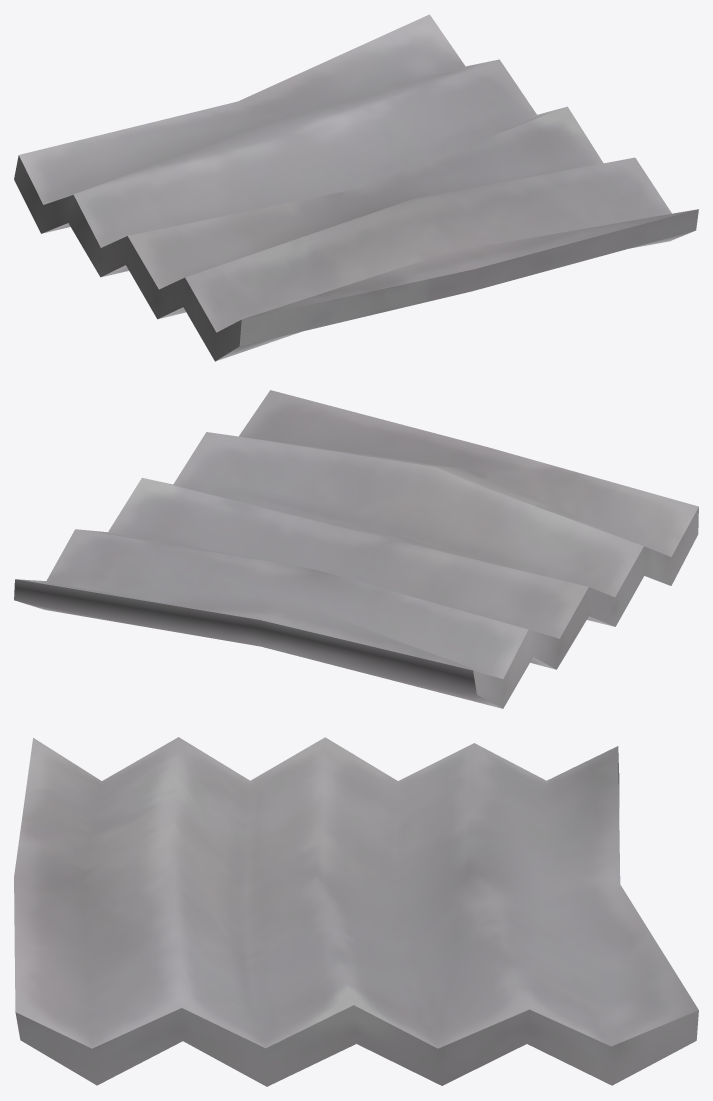
Rendered from Pfb_MetalBoard__3.fbx.
3 renders of one model, top to bottom at view 1: azimuth 30°, elevation 25°; view 2: azimuth 150°, elevation 25°; view 3: azimuth 270°, elevation 25°, orthographic. The views are drawn at different scales.
Parts seen in each view (by area): view 1: Mat_MetalBoard_01_1; view 2: Mat_MetalBoard_01_1; view 3: Mat_MetalBoard_01_1.
Boxes of the visible parts, x1,y1,x2,y2 form: Mat_MetalBoard_01_1: (14, 14, 698, 361); Mat_MetalBoard_01_1: (14, 390, 698, 708); Mat_MetalBoard_01_1: (14, 737, 698, 1086).
Size of the model in its own units: 0.8183 by 0.1546 by 0.8338.
Materials: 1 (1 with a texture image).
